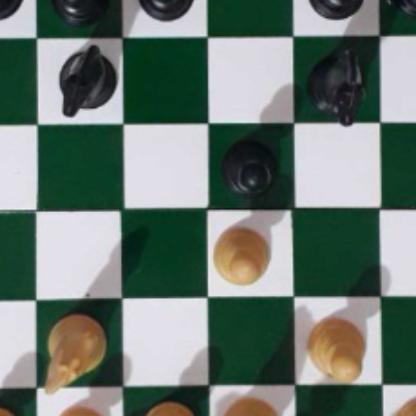black-knight: (306, 44, 367, 123), (56, 42, 114, 112)
black-pawn: (219, 132, 278, 195), (53, 0, 107, 24), (136, 0, 192, 22), (307, 0, 365, 18), (0, 0, 22, 20), (394, 0, 416, 17)
white-knight: (40, 307, 105, 390), (219, 394, 284, 416)
white-pawn: (302, 313, 365, 381), (210, 221, 269, 284), (138, 396, 197, 416), (49, 403, 110, 416), (392, 392, 416, 416), (0, 401, 22, 416)
